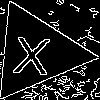X: (12, 27, 53, 76)
